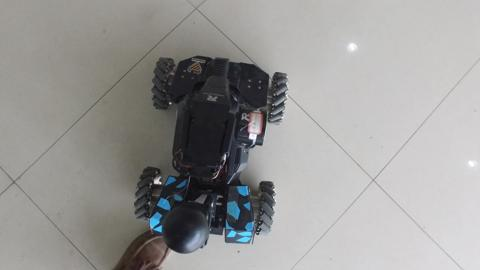chariot: (126, 34, 293, 244)
